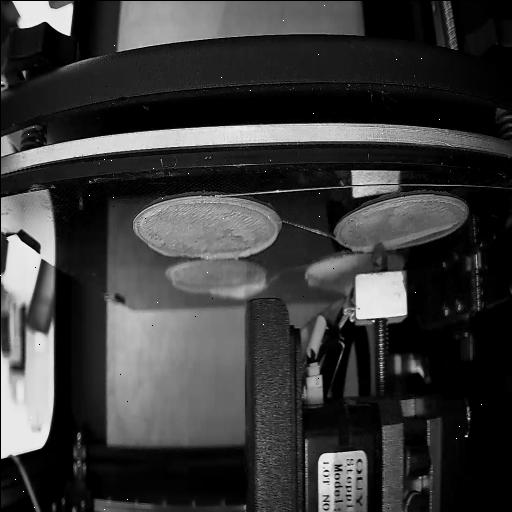over_extrusion: (198, 199, 278, 261), (384, 218, 456, 251), (209, 272, 269, 302), (169, 274, 206, 296), (147, 240, 181, 260), (352, 242, 373, 252)
